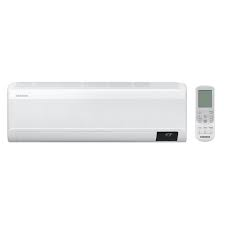ac: (5, 77, 192, 154)
